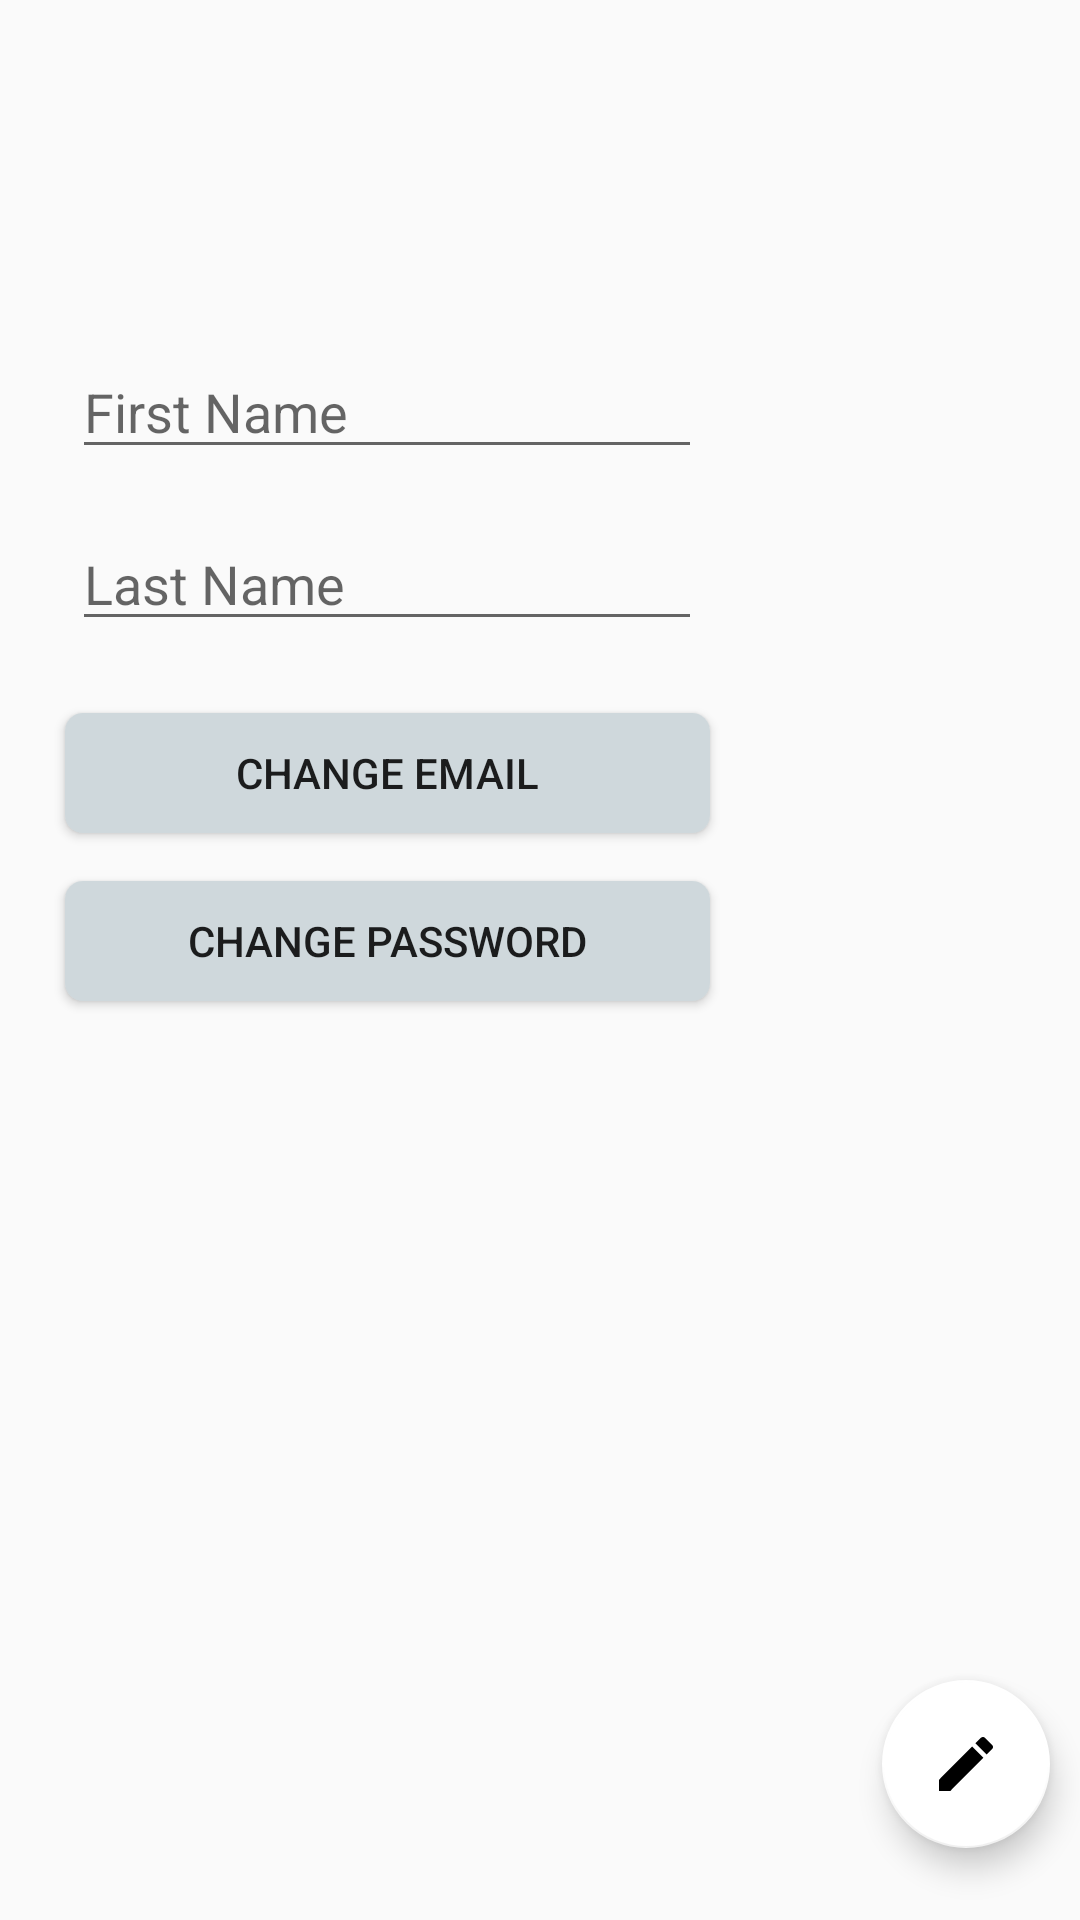

Icons on this 1080px×1920px Android screen, each with the point to tap as [x,y]:
avd edit to accept: [969,1792]
